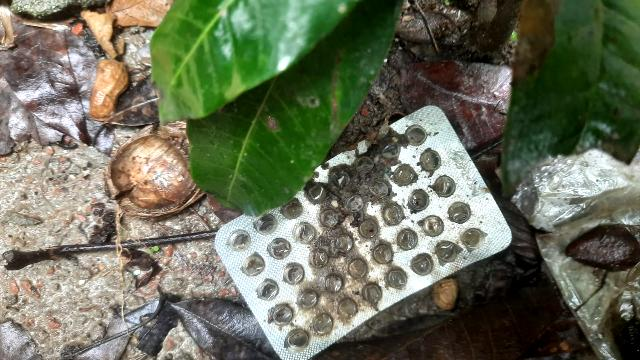medicine: (208, 99, 531, 360)
